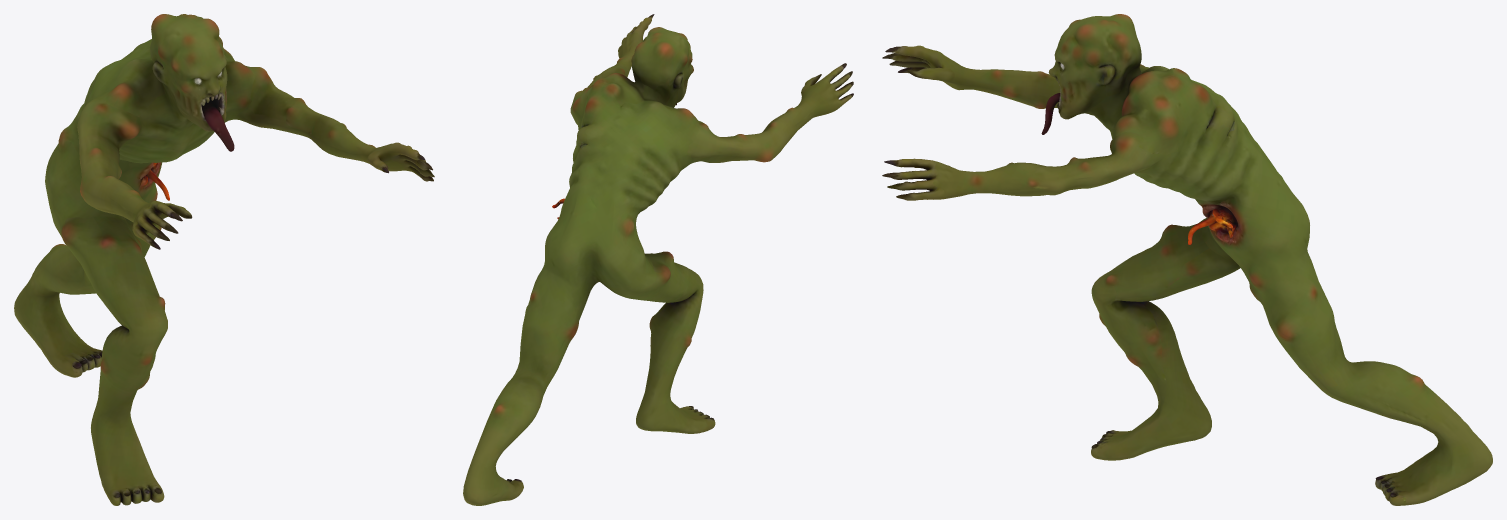
The model's file is MZ4250 - Abyssal Wretch.glb.
The picture shows the model from 3 angles, left to right: view 1: azimuth 30°, elevation 25°; view 2: azimuth 150°, elevation 25°; view 3: azimuth 270°, elevation 25°; orthographic projection. The views are drawn at different scales.
Parts seen in each view (by area): view 1: Body.002; view 2: Body.002; view 3: Body.002.
Part boxes in pixels (x1,y1,x2,y2): Body.002: (14, 14, 434, 505); Body.002: (463, 14, 853, 505); Body.002: (882, 14, 1492, 505).
Size of the model in its own units: 46.44 by 74.95 by 91.04.
Materials: 1 (1 with a texture image).
